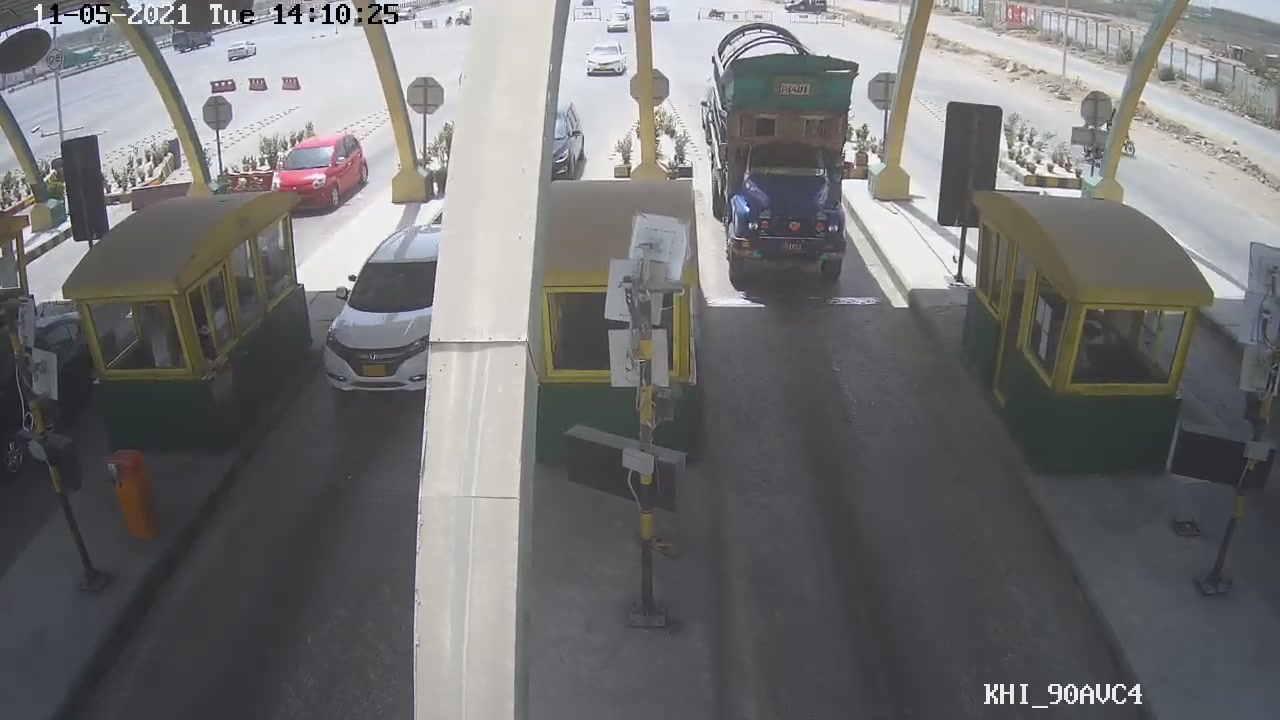F5: (700, 23, 886, 284)
